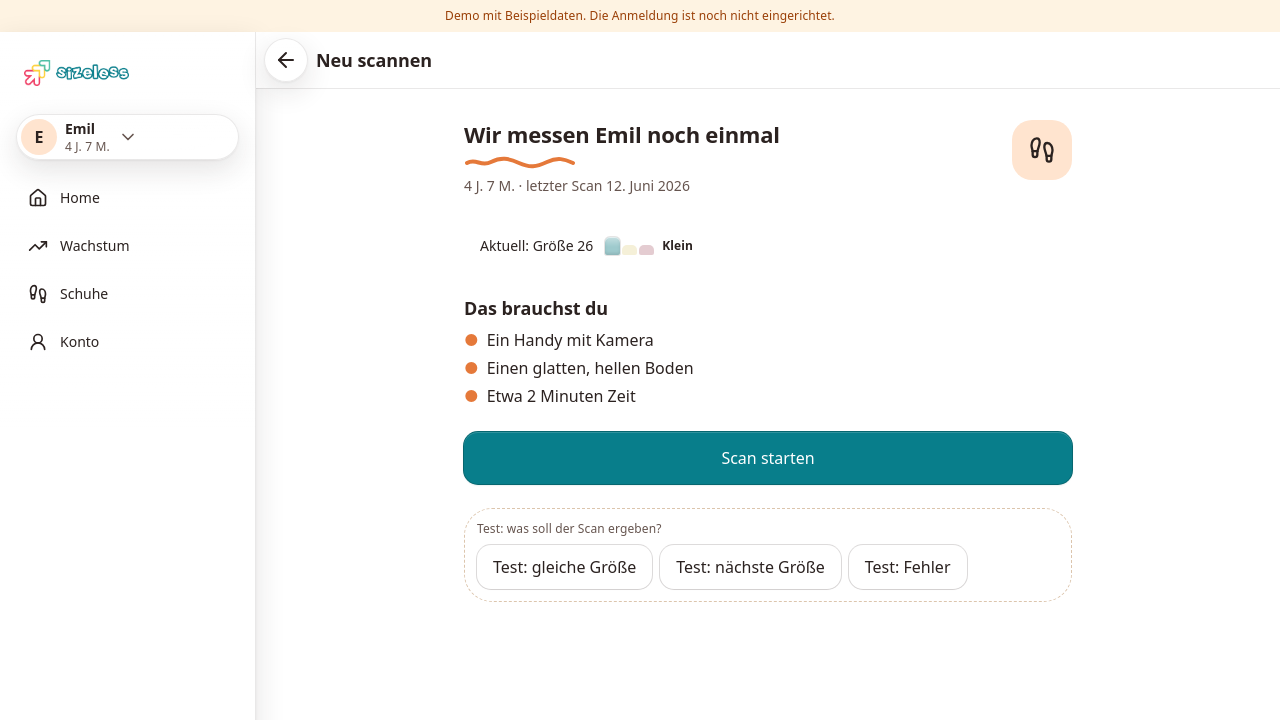
Scenario: Rescan (S14) › outcome C: a failed scan changes nothing and offers to try again
The image size is (1280, 720).
Click the button "Test: Fehler": (908, 567) x1=849 y1=545 x2=966 y2=589
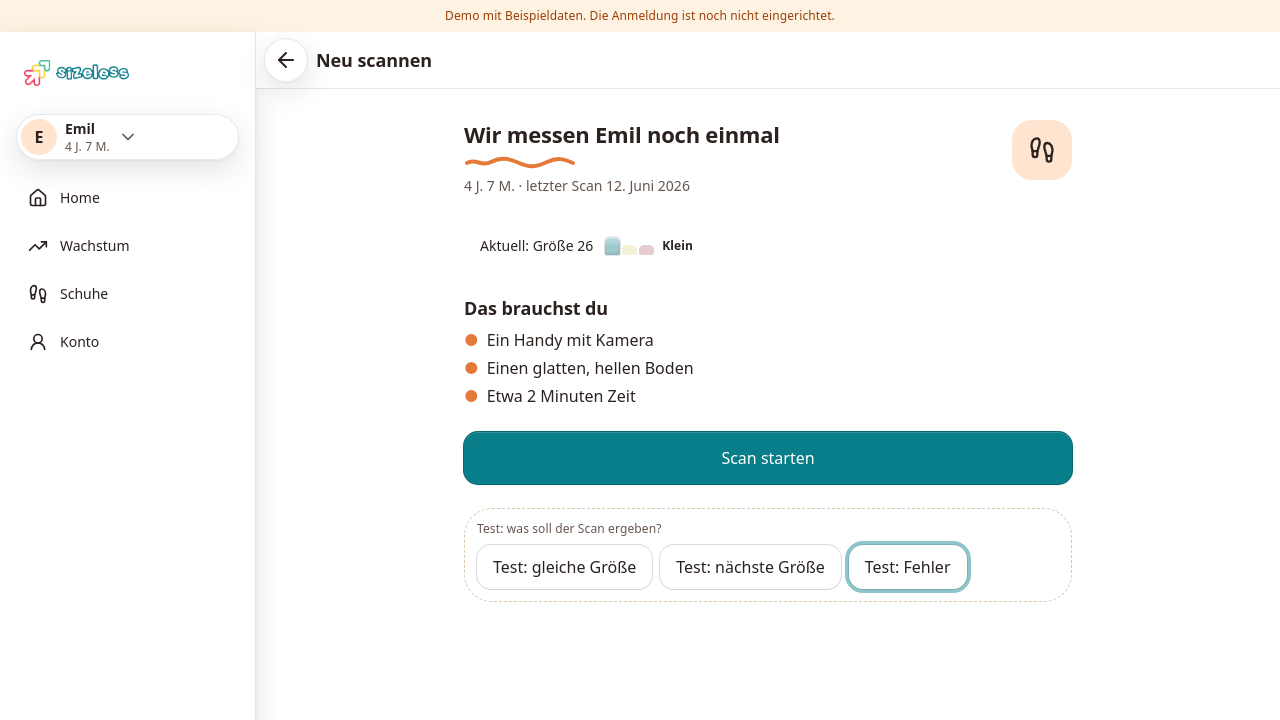
Click the button "Scan starten": (768, 458) x1=464 y1=432 x2=1072 y2=484
Wait 3000 ms
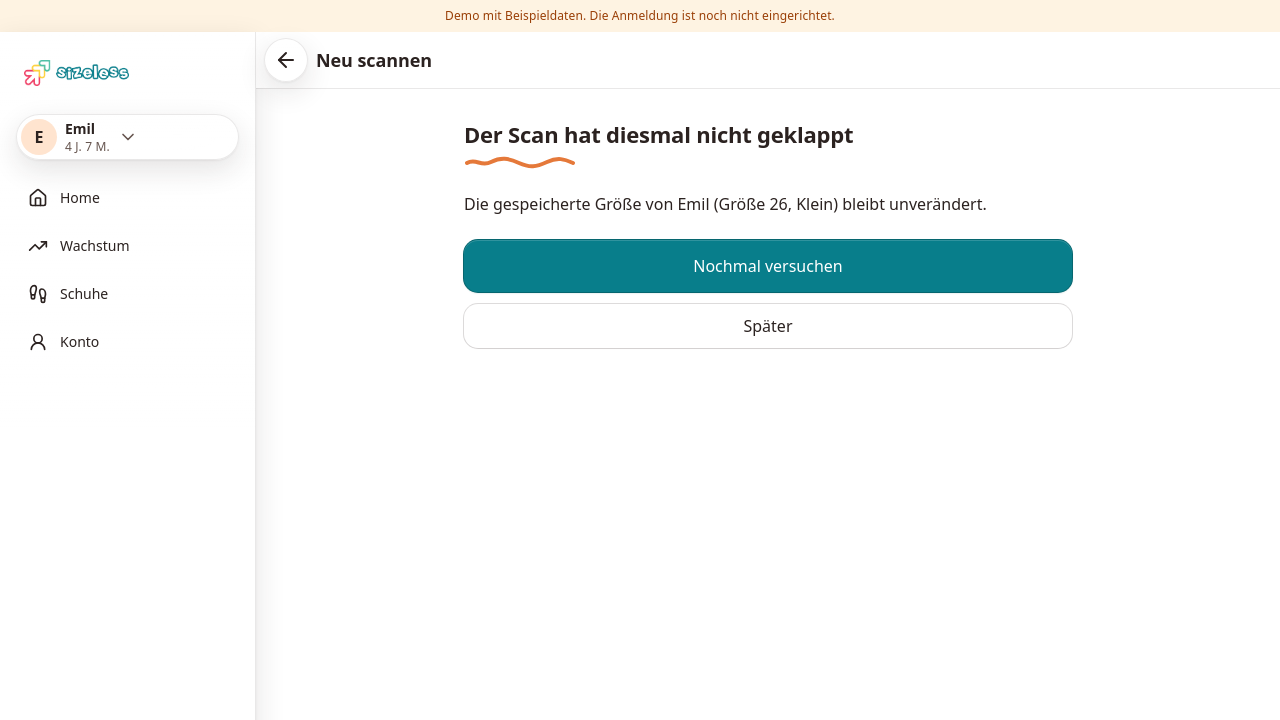
expect the heading "Der Scan hat diesmal nicht geklappt" is shown: met, box x1=464 y1=119 x2=853 y2=168
expect the text "Größe 26, Klein) bleibt unverändert" is shown: met, box x1=464 y1=192 x2=1072 y2=216
